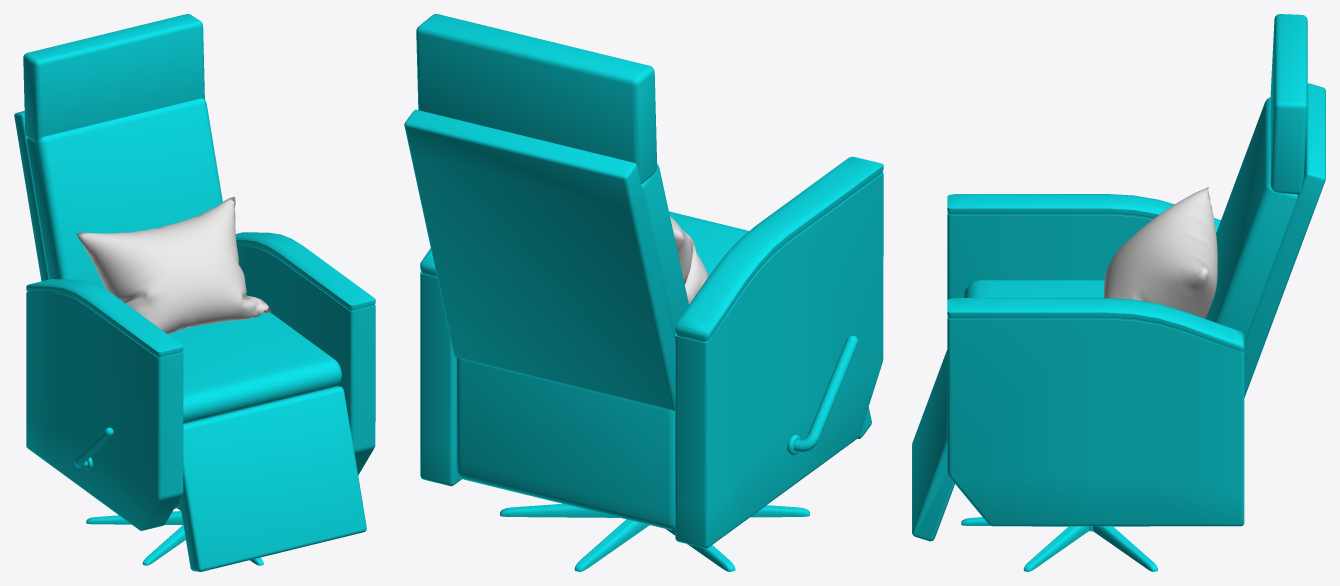
Rendered from Armshair.fbx.
3 renders of one model, left to right at view 1: azimuth 30°, elevation 25°; view 2: azimuth 150°, elevation 25°; view 3: azimuth 270°, elevation 25°, orthographic. The views are drawn at different scales.
Visible parts, largest first — view 1: Armchair_main, Armchair_leg_support, Pillow, Armchair_base, Armchair_lever; view 2: Armchair_main, Armchair_base, Armchair_lever, Pillow; view 3: Armchair_main, Pillow, Armchair_leg_support, Armchair_base.
Part boxes in pixels (x1,y1,x2,y2): Armchair_main: (14,14,375,530); Armchair_leg_support: (179,386,366,571); Pillow: (76,196,271,334); Armchair_base: (86,507,263,565); Armchair_lever: (74,427,113,469); Armchair_main: (404,14,883,548); Armchair_base: (500,503,809,571); Armchair_lever: (787,335,858,455); Pillow: (670,216,708,304); Armchair_main: (947,14,1325,526); Pillow: (1103,187,1217,318); Armchair_leg_support: (912,350,954,541); Armchair_base: (961,517,1157,571).
Size of the model in its own units: 88.51 by 152 by 122.
